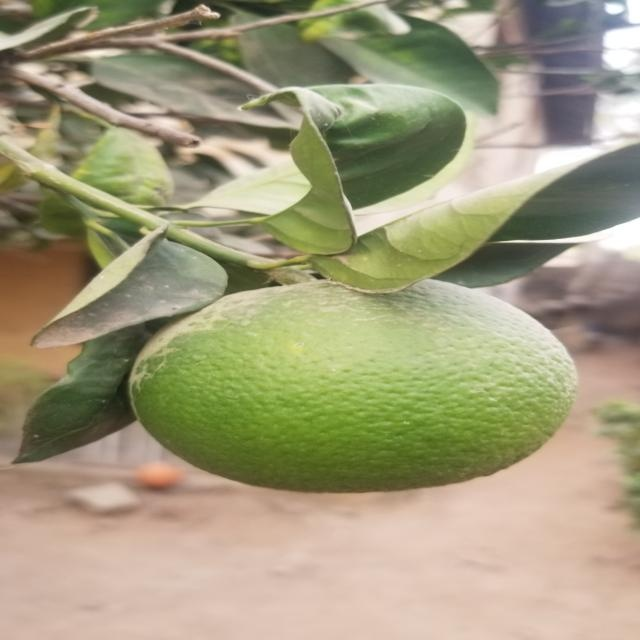agrume: (114, 278, 594, 509)
